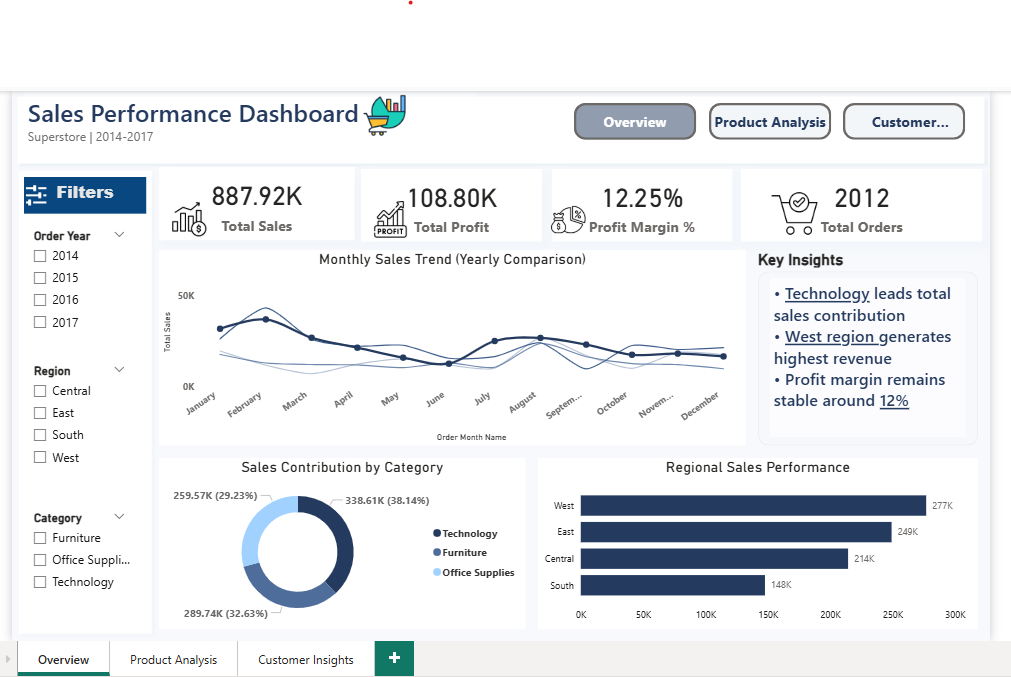

The dashboard page shown, as its layout file describes it:
{"tool":"powerbi","page":{"name":"Overview","canvas":[1280,720],"ordinal":0},"visuals":[{"type":"shape","title":"Key Insights","box":[976,208,288,256],"z":0},{"type":"shape","box":[0,0,1280.5,102.4],"z":1000},{"type":"card","fields":{"Values":["Sales_Data.Total Sales"]},"box":[192,100,256,96],"z":2000},{"type":"card","fields":{"Values":["Sales_Data.Total Profit"]},"box":[457.1,102.4,237.1,95.1],"z":3000},{"type":"card","fields":{"Values":["Sales_Data.Profit Margin %"]},"box":[706.3,102.4,235.6,95.1],"z":4000},{"type":"card","fields":{"Values":["Sales_Data.Total Orders"]},"box":[954.1,102.4,316.1,95.1],"z":5000},{"type":"lineChart","title":"Monthly Sales Trend (Yearly Comparison)","fields":{"Category":["Sales_Data.Order Month Name"],"Y":["Sales_Data.Total Sales"],"Series":["Sales_Data.Order Year"]},"box":[192,208,768,256],"z":6000},{"type":"clusteredBarChart","title":"Regional Sales Performance","fields":{"Category":["Sales_Data.Region"],"Y":["Sales_Data.Total Sales"]},"box":[688,480,576,224],"z":7000},{"type":"donutChart","title":"Sales Contribution by Category","fields":{"Category":["Sales_Data.Category"],"Y":["Sales_Data.Total Sales"]},"box":[192,480,480,224],"z":8000},{"type":"textbox","box":[16,0,592,80],"z":9000},{"type":"shape","box":[0,96,192,624],"z":10000},{"type":"slicer","fields":{"Values":["Sales_Data.Order Year"]},"box":[16,176,144,160],"z":11000},{"type":"slicer","fields":{"Values":["Sales_Data.Region"]},"box":[16,352,144,176],"z":12000},{"type":"slicer","fields":{"Values":["Sales_Data.Category"]},"box":[16,544,144,128],"z":13000},{"type":"textbox","box":[16,112,160,48],"z":14000},{"type":"textbox","box":[992,245,256,208],"z":15000},{"type":"image","box":[16,112,32,48],"z":16000},{"type":"actionButton","box":[736,16,160,48],"z":17000},{"type":"actionButton","box":[912,16,160,48],"z":18000},{"type":"actionButton","box":[1088,16,160,48],"z":19000},{"type":"image","box":[208,144,48,48],"z":20000},{"type":"image","box":[464,144,64,48],"z":21000},{"type":"image","box":[704,128,48,80],"z":22000},{"type":"image","box":[992,128,64,64],"z":23000},{"type":"image","box":[448,0,80,64],"z":24000}]}

Visuals, with their boxes on the page's 1280x720 design canvas (x1, y1, x2, y2). These are canvas units, not pixel positions in the 1011x677 screenshot, which may show the page scaled, cropped or inside an application window:
"Key Insights" shape: x1=976 y1=208 x2=1264 y2=464
shape: x1=0 y1=0 x2=1280 y2=102
card - Sales_Data.Total Sales: x1=192 y1=100 x2=448 y2=196
card - Sales_Data.Total Profit: x1=457 y1=102 x2=694 y2=198
card - Sales_Data.Profit Margin %: x1=706 y1=102 x2=942 y2=198
card - Sales_Data.Total Orders: x1=954 y1=102 x2=1270 y2=198
"Monthly Sales Trend (Yearly Comparison)" lineChart: x1=192 y1=208 x2=960 y2=464
"Regional Sales Performance" clusteredBarChart: x1=688 y1=480 x2=1264 y2=704
"Sales Contribution by Category" donutChart: x1=192 y1=480 x2=672 y2=704
textbox: x1=16 y1=0 x2=608 y2=80
shape: x1=0 y1=96 x2=192 y2=720
slicer - Sales_Data.Order Year: x1=16 y1=176 x2=160 y2=336
slicer - Sales_Data.Region: x1=16 y1=352 x2=160 y2=528
slicer - Sales_Data.Category: x1=16 y1=544 x2=160 y2=672
textbox: x1=16 y1=112 x2=176 y2=160
textbox: x1=992 y1=245 x2=1248 y2=453
image: x1=16 y1=112 x2=48 y2=160
actionButton: x1=736 y1=16 x2=896 y2=64
actionButton: x1=912 y1=16 x2=1072 y2=64
actionButton: x1=1088 y1=16 x2=1248 y2=64
image: x1=208 y1=144 x2=256 y2=192
image: x1=464 y1=144 x2=528 y2=192
image: x1=704 y1=128 x2=752 y2=208
image: x1=992 y1=128 x2=1056 y2=192
image: x1=448 y1=0 x2=528 y2=64
